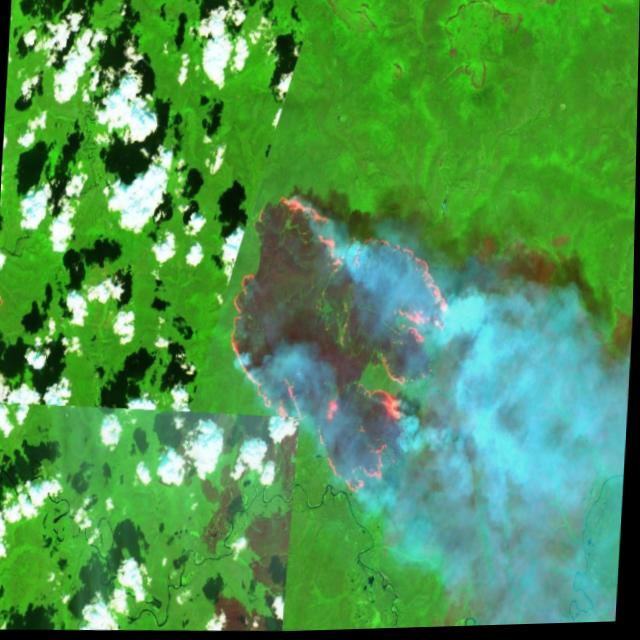fire: (213, 181, 468, 547)
